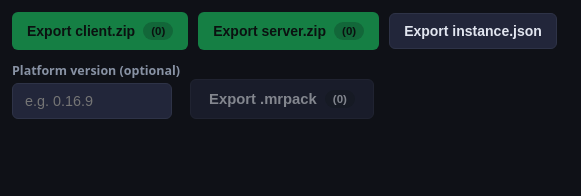
Test: Outputs — client.zip, server.zip, instance.json offline import, and .mrpack export › shows a schema version toast popup when ExportBar has multiple supportedSchemaVersions
Click the button "Export instance.json" at (473, 31), box [389, 13, 557, 49]
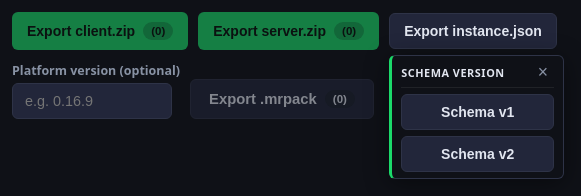
Expected: the element with test id "schema-version-toast" is shown, [389, 55, 564, 179]
Press Escape
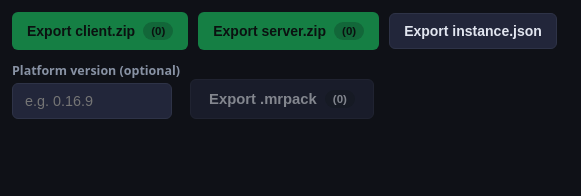
Expected: the element with test id "schema-version-toast" is gone
Click the button "Export instance.json" at (473, 31), box [389, 13, 557, 49]
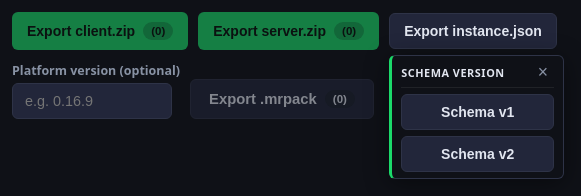
Click the button "Schema v2" at (478, 154), box [401, 136, 554, 172]
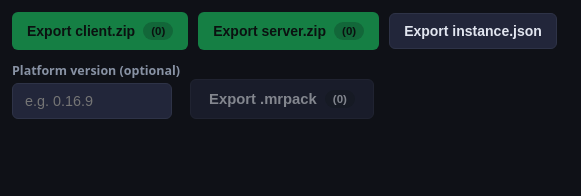
Expected: the element with test id "schema-version-toast" is gone
